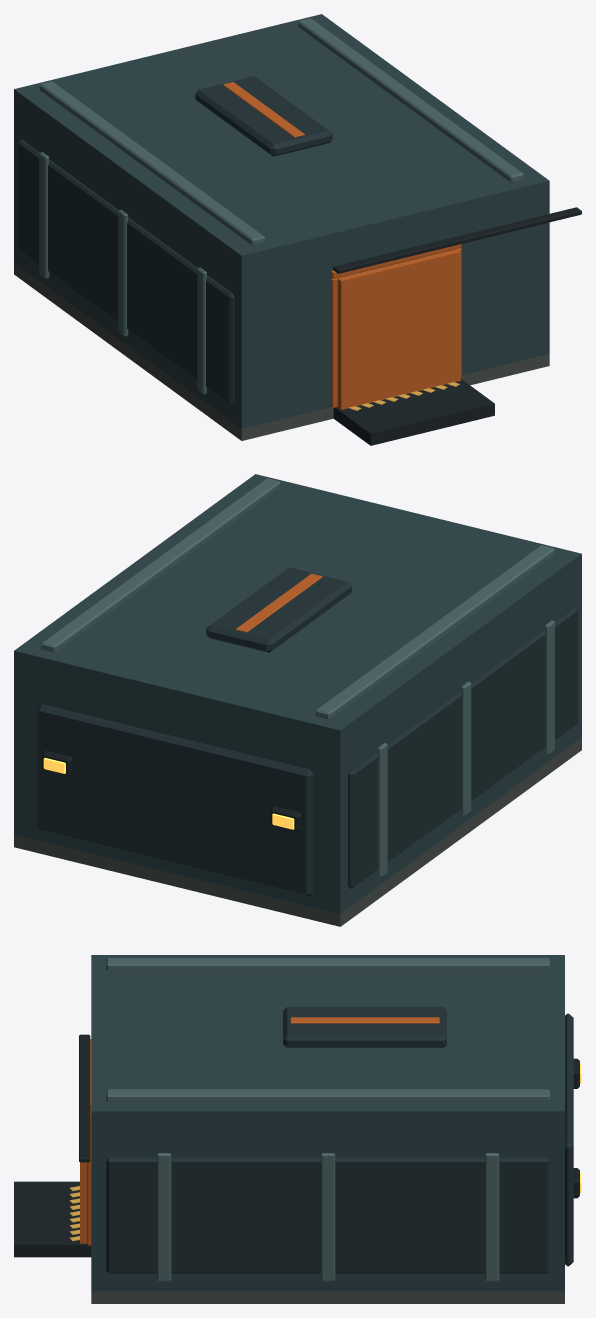
Rendered from submarine_A01_v2.fbx.
3 views of the same model, one above another, from view 1: azimuth 30°, elevation 25°; view 2: azimuth 150°, elevation 25°; view 3: azimuth 270°, elevation 25° (orthographic). The views are drawn at different scales.
Parts seen in each view (by area): view 1: Ceiling, PortArmor, Hatch_Door, PortAftWall, StarboardAftWall, PortWall, Landing, Deck, RoofSpine, PortRoofRail, StarboardRoofRail, AftLintel (+8 smaller); view 2: Ceiling, BowArmor, PortArmor, BowWall, PortWall, Deck, RoofSpine, PortRoofRail, StarboardRoofRail, PortRib2, PortRib1, PortRib3 (+1 smaller); view 3: Ceiling, StarboardArmor, StarboardWall, Deck, RoofSpine, StarboardRoofRail, PortRoofRail, Landing, BowArmor, BowWall, StarboardAftWall, StarboardRib1 (+6 smaller).
Part boxes in pixels (bbox=[...]): Ceiling: bbox=[14, 14, 549, 267]; PortArmor: bbox=[18, 139, 234, 404]; Hatch_Door: bbox=[337, 249, 460, 409]; PortAftWall: bbox=[235, 244, 337, 428]; StarboardAftWall: bbox=[453, 193, 549, 375]; PortWall: bbox=[14, 105, 252, 428]; Landing: bbox=[333, 379, 494, 445]; Deck: bbox=[14, 262, 549, 440]; RoofSpine: bbox=[195, 76, 332, 156]; PortRoofRail: bbox=[39, 81, 265, 245]; StarboardRoofRail: bbox=[298, 18, 523, 182]; AftLintel: bbox=[338, 216, 453, 265]; Ceiling: bbox=[14, 474, 581, 743]; BowArmor: bbox=[37, 704, 313, 897]; PortArmor: bbox=[348, 607, 577, 888]; BowWall: bbox=[14, 663, 346, 913]; PortWall: bbox=[330, 567, 581, 913]; Deck: bbox=[14, 737, 581, 926]; RoofSpine: bbox=[206, 567, 351, 652]; PortRoofRail: bbox=[315, 545, 554, 719]; StarboardRoofRail: bbox=[41, 478, 280, 652]; PortRib2: bbox=[461, 681, 471, 816]; PortRib1: bbox=[544, 620, 554, 754]; PortRib3: bbox=[377, 743, 387, 877]; Ceiling: bbox=[91, 955, 564, 1123]; StarboardArmor: bbox=[106, 1157, 549, 1273]; StarboardWall: bbox=[91, 1124, 564, 1291]; Deck: bbox=[91, 1291, 564, 1303]; RoofSpine: bbox=[283, 1007, 446, 1047]; StarboardRoofRail: bbox=[106, 1089, 549, 1101]; PortRoofRail: bbox=[106, 958, 549, 970]; Landing: bbox=[14, 1181, 91, 1257]; BowArmor: bbox=[565, 1013, 573, 1266]; BowWall: bbox=[552, 1124, 564, 1291]; StarboardAftWall: bbox=[91, 1124, 103, 1291]; StarboardRib1: bbox=[157, 1153, 171, 1281].
Bounding box in the file's own units: 1775 × 2459 × 1024.
